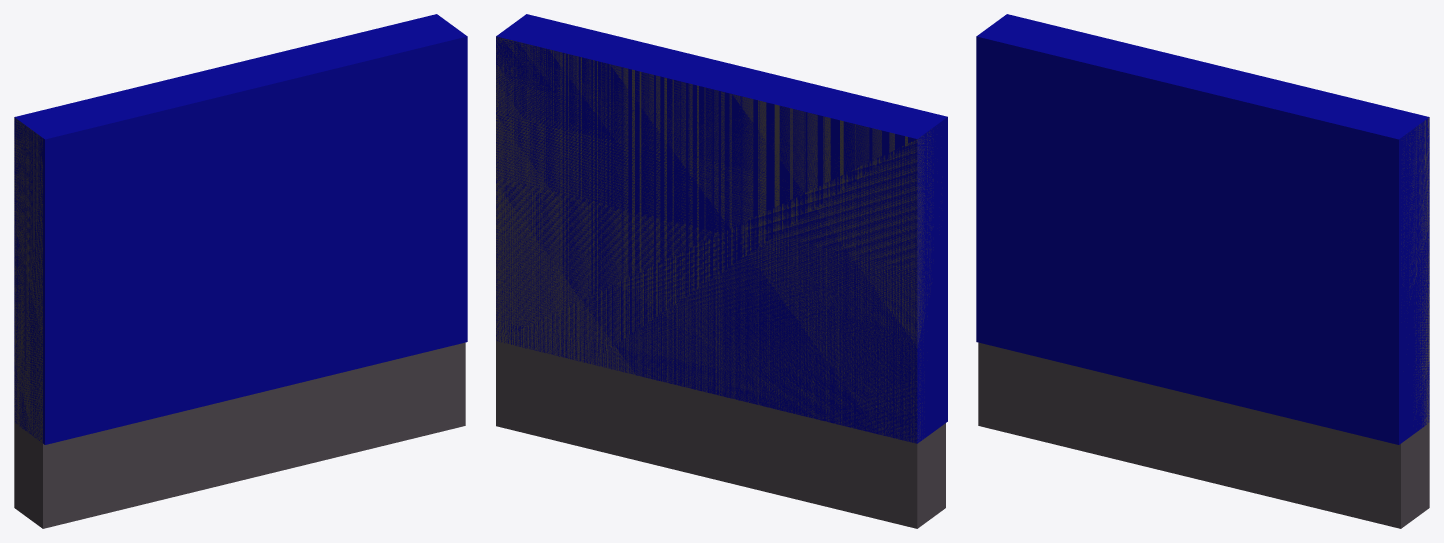
Rendered from ZDT_X35_V1_2_PCB_step_STEP__J1_step_STEP_1.3dxml.glb.
3 renders of one model, left to right at view 1: azimuth 30°, elevation 25°; view 2: azimuth 150°, elevation 25°; view 3: azimuth 330°, elevation 25°, orthographic.
Parts seen in each view (by area): view 1: world; view 2: world; view 3: world.
Boxes of the visible parts, left/top/right/bottom form: world: left=14, top=14, right=467, bottom=528; world: left=496, top=14, right=947, bottom=528; world: left=976, top=14, right=1429, bottom=528.
Bounding box in the file's own units: 0.0119 × 0.0106 × 0.0015.
